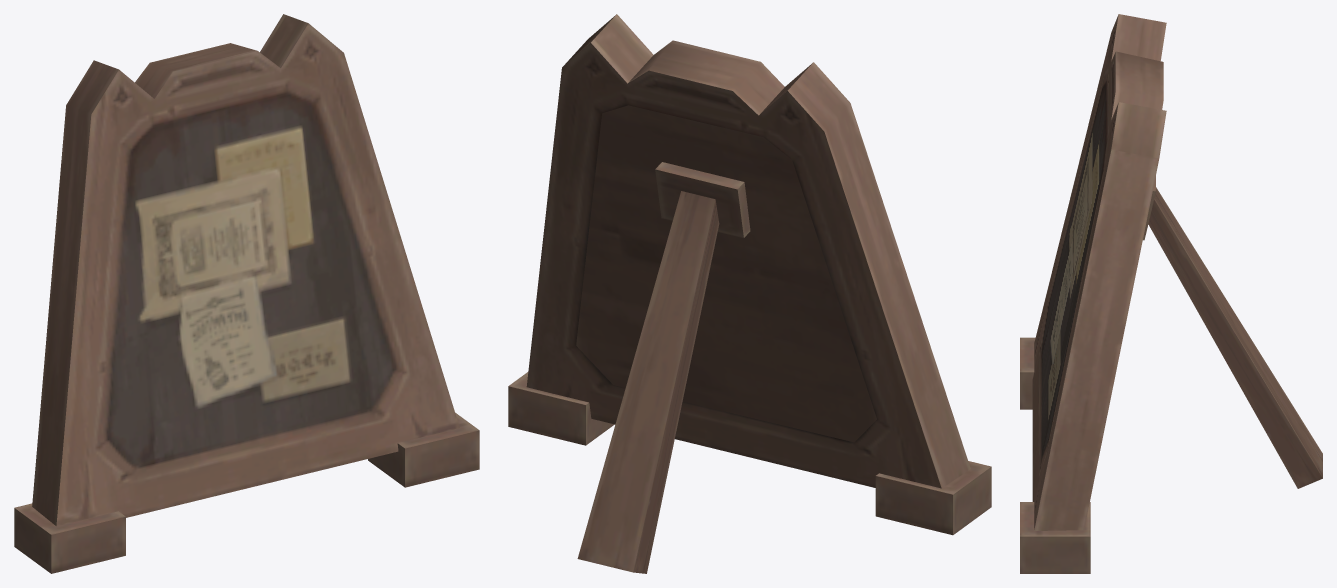
Rendered from Homeworld_Ani_Exterior_Md_Build_TracellerBooth_05_02_Vo.fbx.
The picture shows the model from 3 angles, left to right: view 1: azimuth 30°, elevation 25°; view 2: azimuth 150°, elevation 25°; view 3: azimuth 270°, elevation 25°; orthographic projection. The views are drawn at different scales.
Parts seen in each view (by area): view 1: Property_Ani_Prop_MarkertDeco_06_02_Vo; view 2: Property_Ani_Prop_MarkertDeco_06_02_Vo; view 3: Property_Ani_Prop_MarkertDeco_06_02_Vo.
Part boxes in pixels (x1,y1,x2,y2): Property_Ani_Prop_MarkertDeco_06_02_Vo: [14, 14, 479, 573]; Property_Ani_Prop_MarkertDeco_06_02_Vo: [508, 14, 991, 573]; Property_Ani_Prop_MarkertDeco_06_02_Vo: [1020, 14, 1322, 573].
Size of the model in its own units: 0.9542 by 0.9373 by 0.6138.
